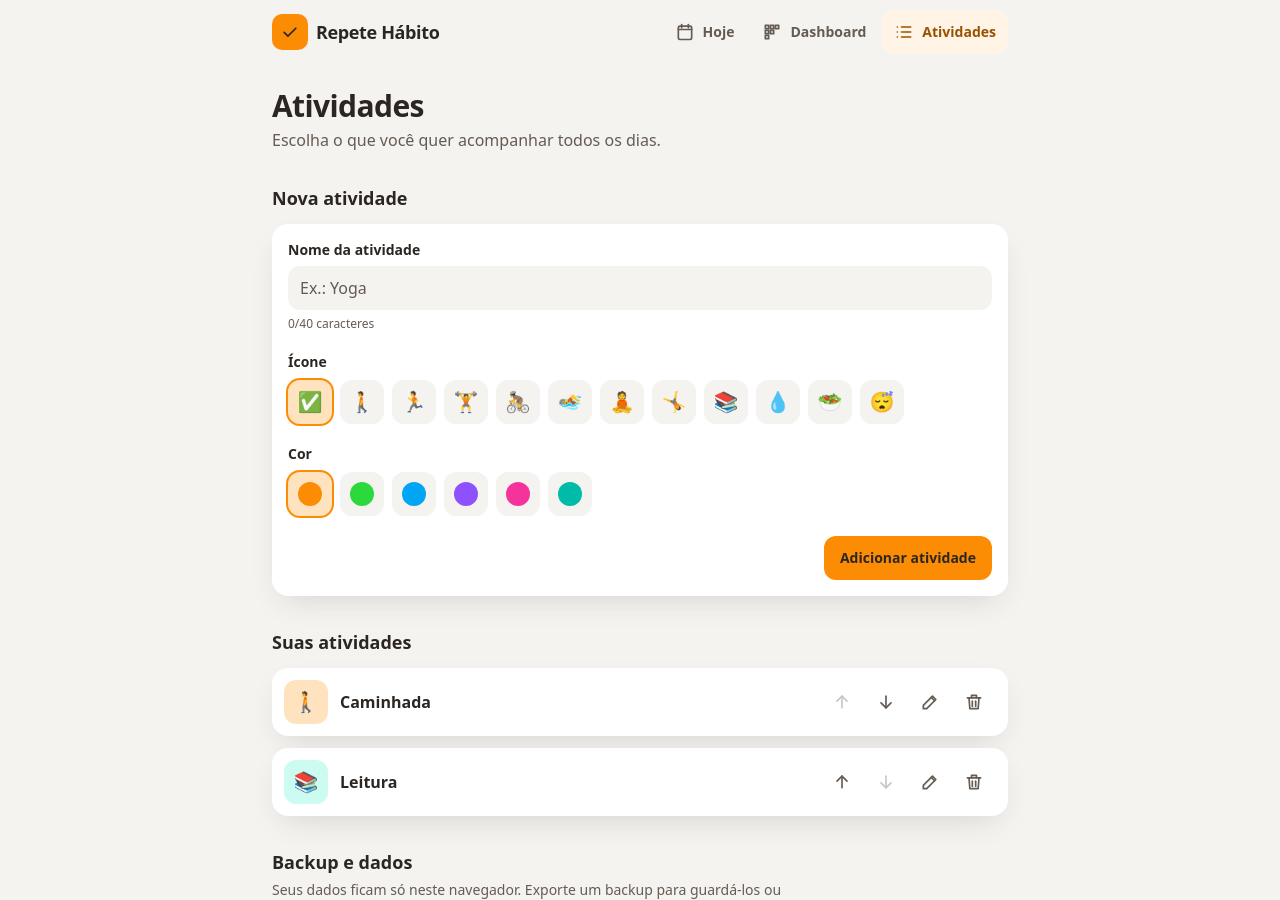
Test case: ActivitiesView — gerenciamento › TI-05: remover atividade com histórico pede confirmação e cancelar mantém tudo
The image size is (1280, 900).
Click the button named "Remover Caminhada". click: (974, 702)
box: [952,680,996,724]
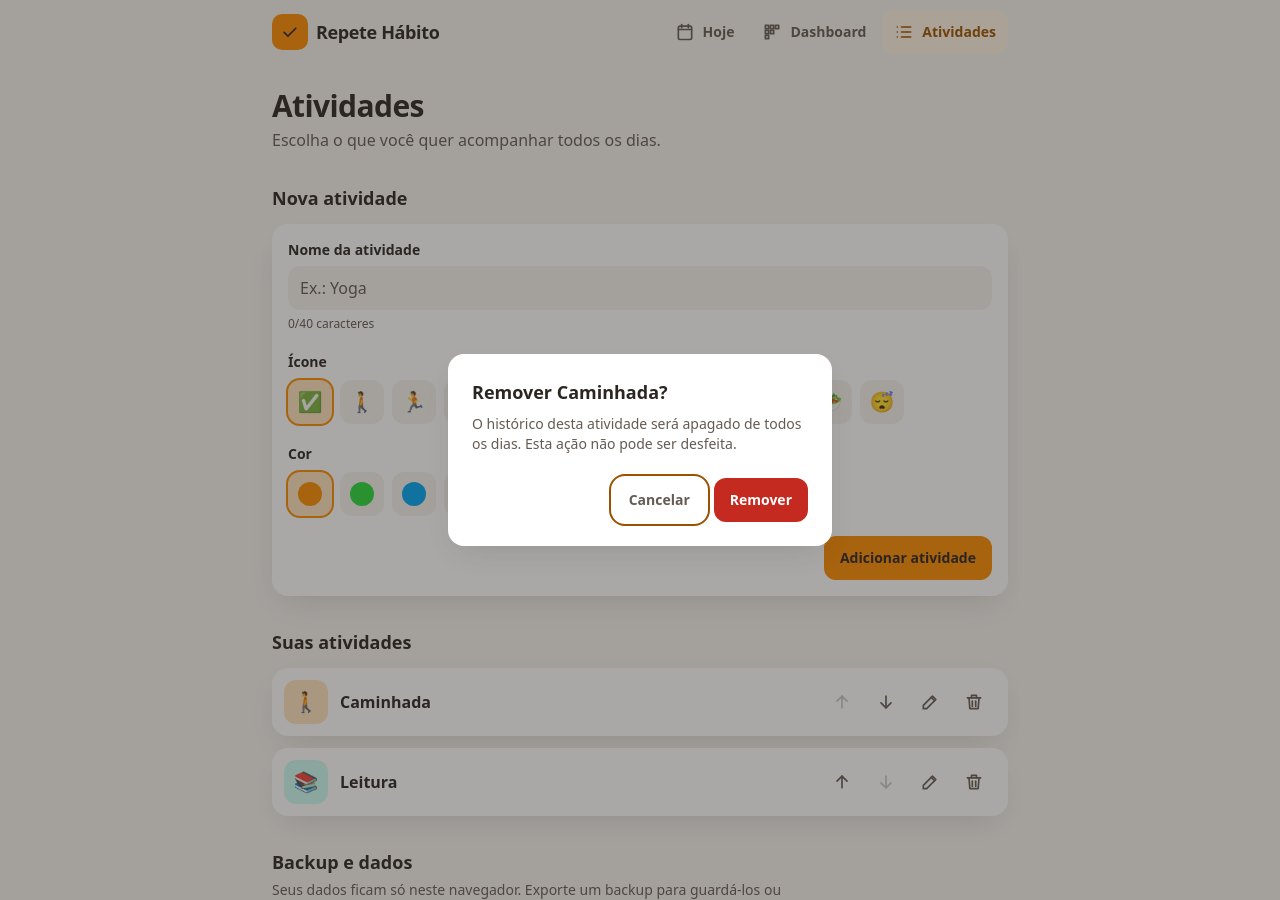
Check: the dialog "Remover Caminhada?" is shown, box [448,354,832,546]
Click the button "Cancelar". click: (659, 500)
box: [613,478,706,522]
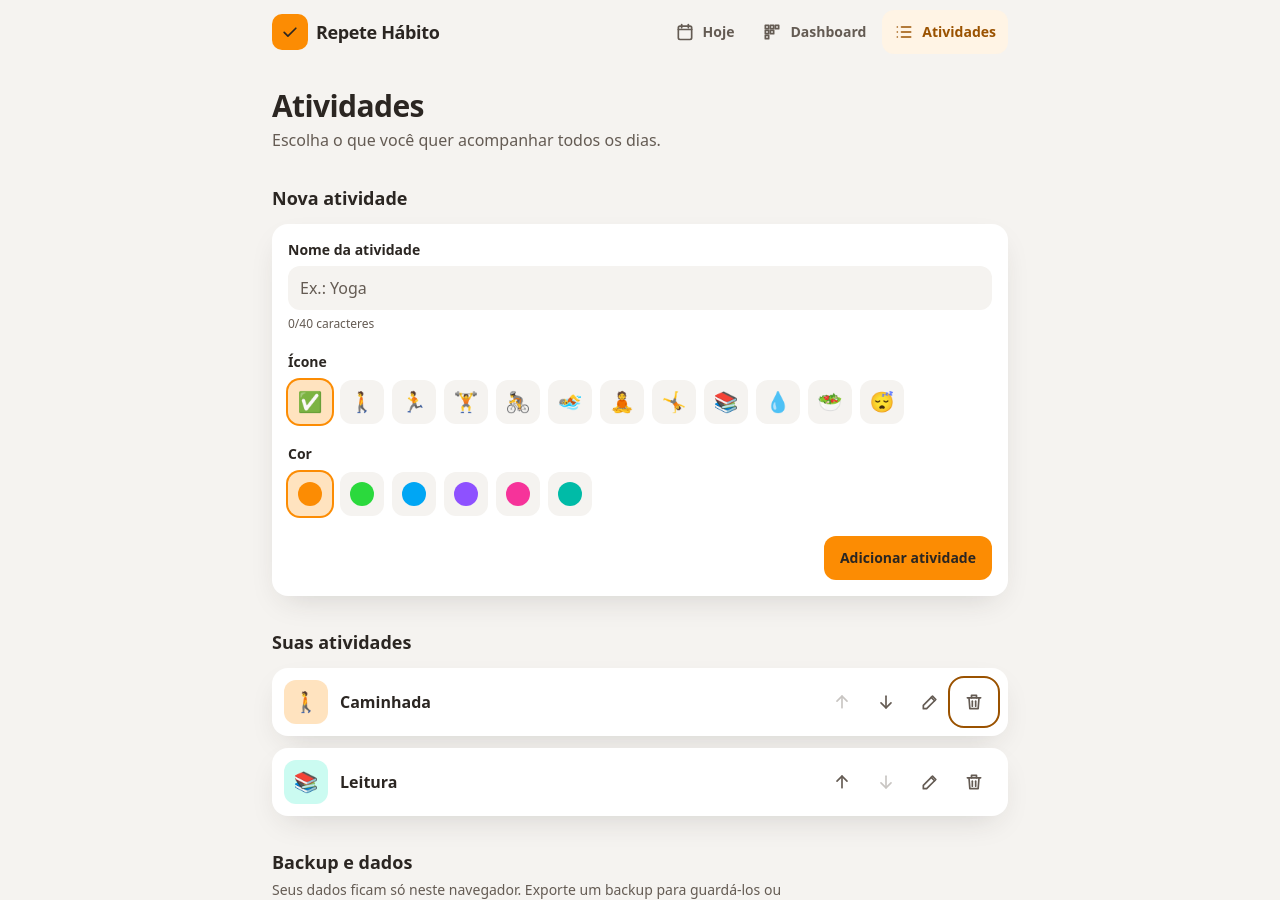
Check: the dialog is gone
